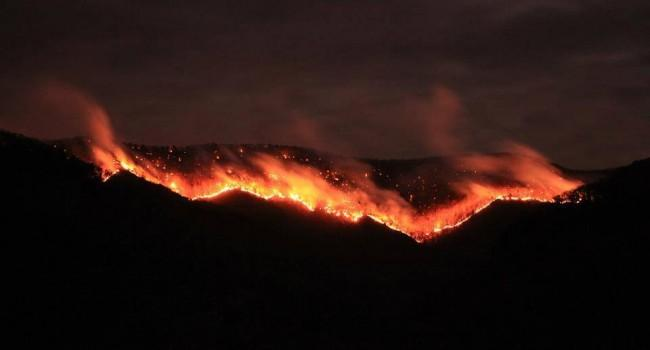fire: (424, 196, 503, 237), (102, 163, 167, 184), (378, 211, 420, 243), (508, 188, 571, 207), (326, 201, 372, 226), (242, 181, 287, 200), (197, 182, 240, 195), (292, 193, 315, 211)
